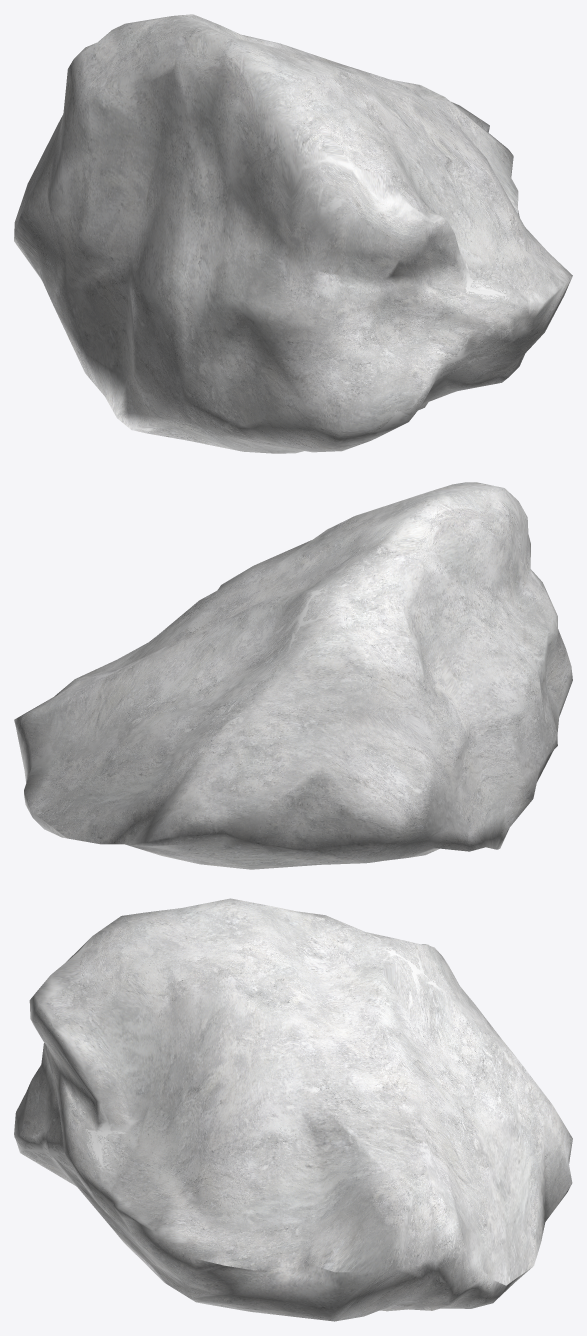
File: rock_00H.fbx
The picture shows the model from 3 angles, top to bottom: view 1: azimuth 30°, elevation 25°; view 2: azimuth 150°, elevation 25°; view 3: azimuth 270°, elevation 25°; orthographic projection. The views are drawn at different scales.
Parts seen in each view (by area): view 1: rock_00H; view 2: rock_00H; view 3: rock_00H.
Part boxes in pixels (x1=…): rock_00H: x1=14, y1=14, x2=572, y2=453; rock_00H: x1=14, y1=482, x2=572, y2=869; rock_00H: x1=14, y1=898, x2=572, y2=1321.
Bounding box in the file's own units: 124 × 97.64 × 152.
